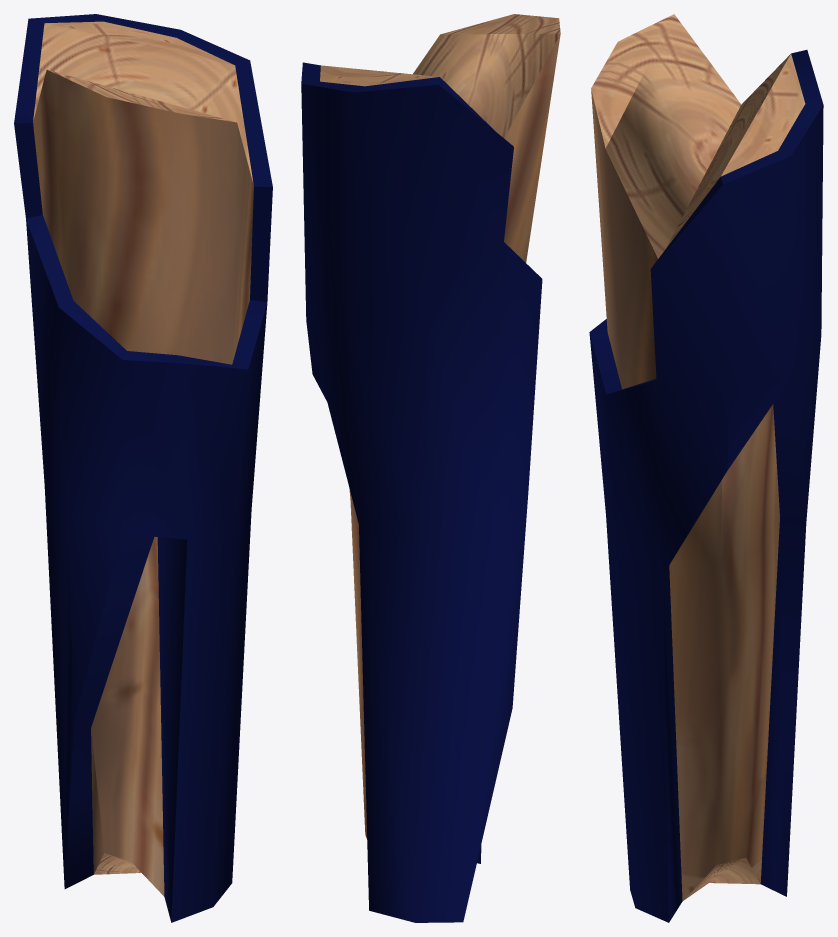
File: p_mesh_hvs_pine_branch_part_02.fbx
3 views of the same model, side by side, from view 1: azimuth 30°, elevation 25°; view 2: azimuth 150°, elevation 25°; view 3: azimuth 270°, elevation 25° (orthographic). The views are drawn at different scales.
Parts seen in each view (by area): view 1: p_hvs_pine_branch_part_02; view 2: p_hvs_pine_branch_part_02; view 3: p_hvs_pine_branch_part_02.
Boxes of the visible parts, <box> form: p_hvs_pine_branch_part_02: <box>14,14,272,922</box>; p_hvs_pine_branch_part_02: <box>301,14,560,922</box>; p_hvs_pine_branch_part_02: <box>589,14,823,922</box>.
Size of the model in its own units: 1.74 by 6.27 by 1.6.
